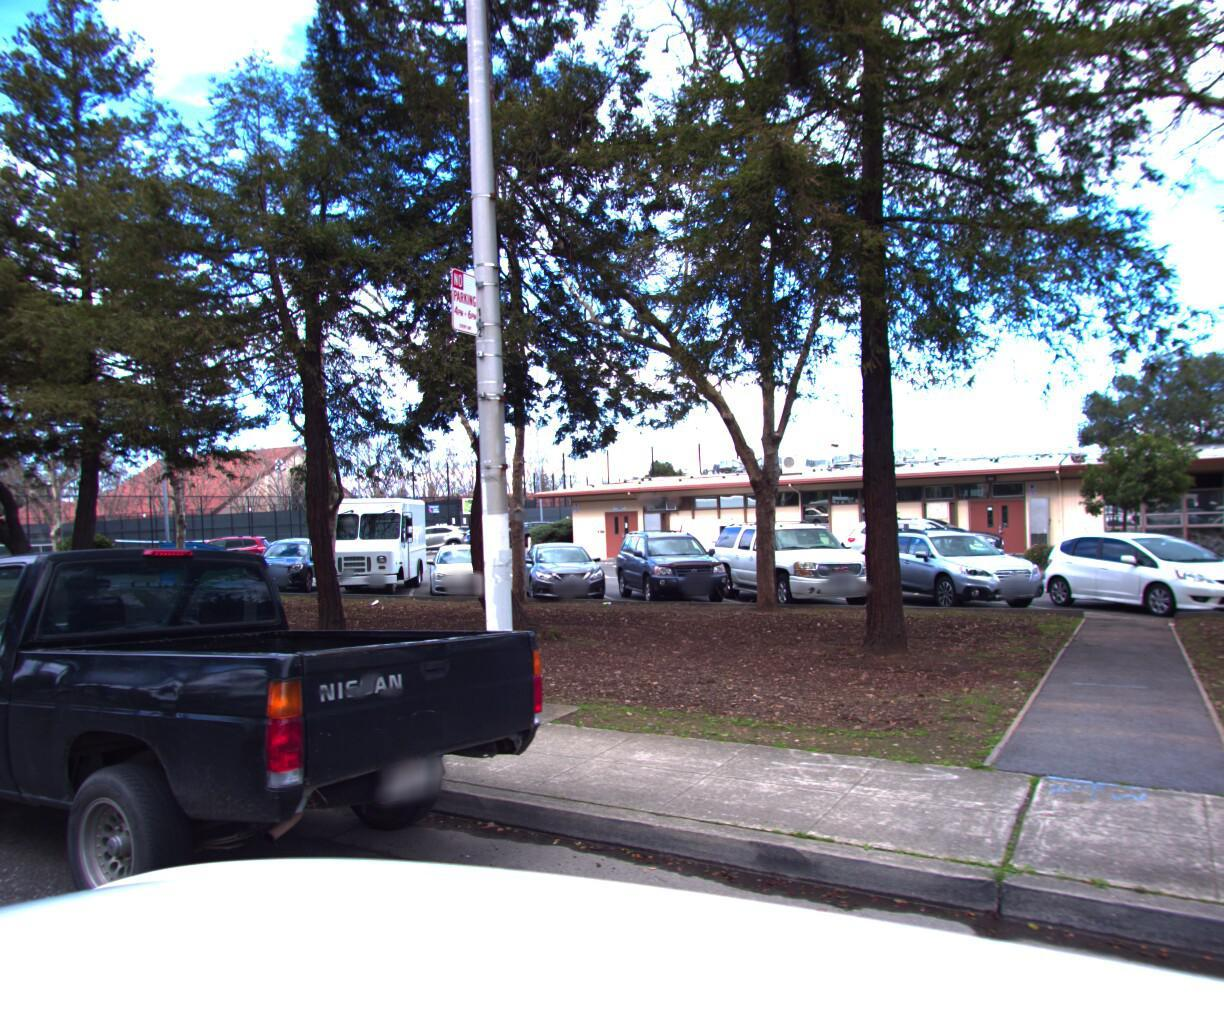car: (0, 520, 565, 1017)
